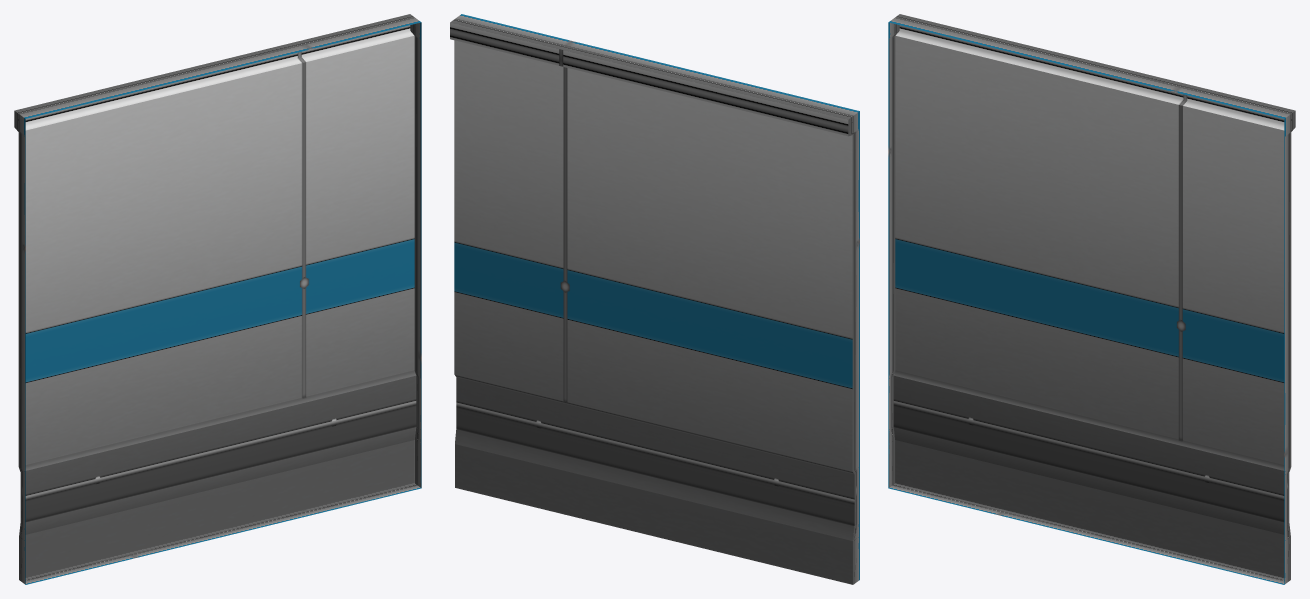
File: VAL_4M_BB.fbx
3 views of the same model, side by side, from view 1: azimuth 30°, elevation 25°; view 2: azimuth 150°, elevation 25°; view 3: azimuth 330°, elevation 25° (orthographic).
Parts seen in each view (by area): view 1: VAL_4M_BB; view 2: VAL_4M_BB; view 3: VAL_4M_BB.
Part boxes in pixels (left/top/right/bottom): VAL_4M_BB: left=14, top=14, right=421, bottom=584; VAL_4M_BB: left=450, top=14, right=859, bottom=584; VAL_4M_BB: left=888, top=14, right=1295, bottom=584.
Size of the model in its own units: 4 by 4.5 by 0.201.
Materials: 1 (1 with a texture image).
